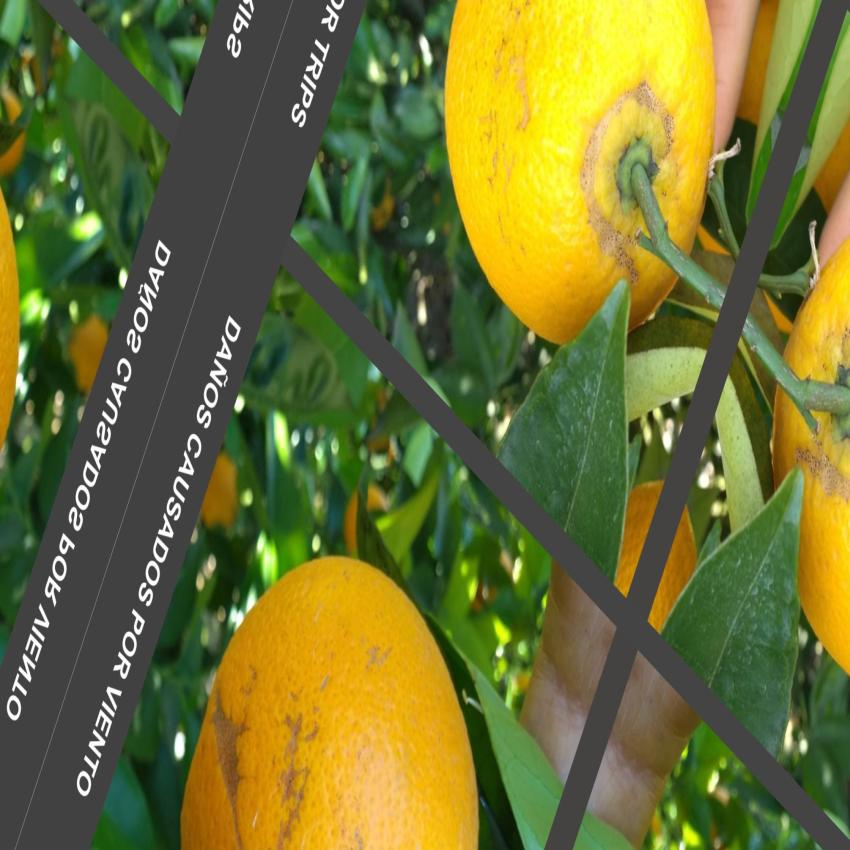Mal estado: (430, 0, 733, 389), (172, 532, 489, 843), (781, 220, 850, 679)
